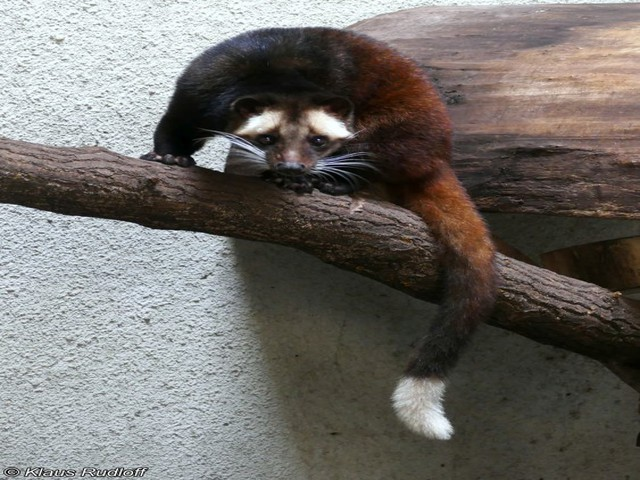civet: (140, 26, 497, 438)
